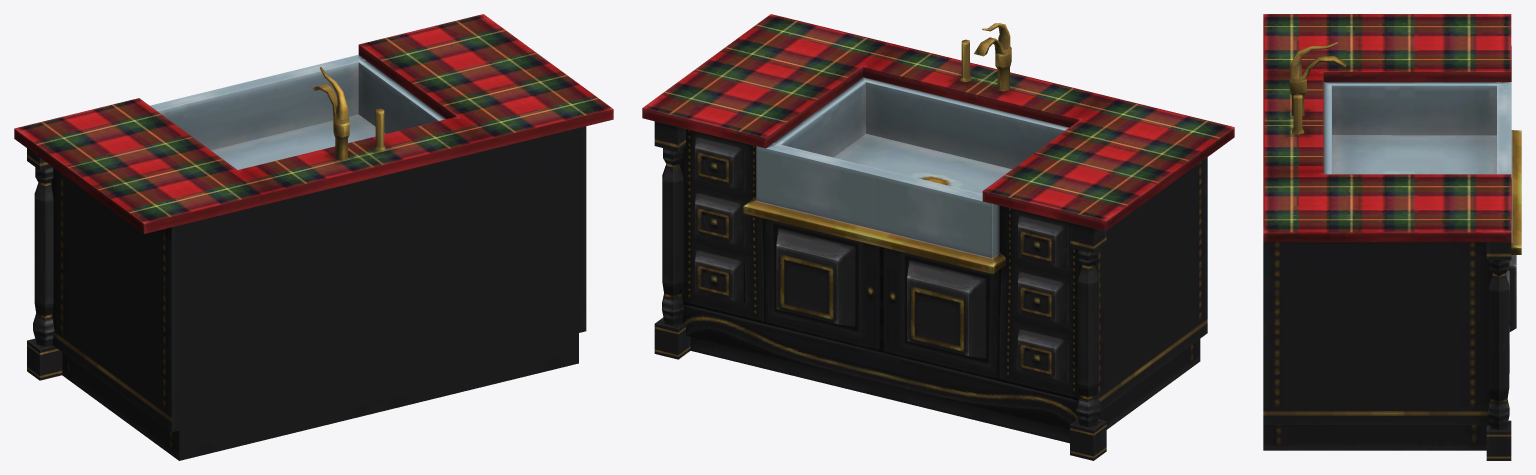
File: furni_0200326.FBX
The picture shows the model from 3 angles, left to right: view 1: azimuth 30°, elevation 25°; view 2: azimuth 150°, elevation 25°; view 3: azimuth 270°, elevation 25°; orthographic projection. The views are drawn at different scales.
Parts seen in each view (by area): view 1: furni_0200326; view 2: furni_0200326; view 3: furni_0200326.
Boxes of the visible parts, x1,y1,x2,y2 form: furni_0200326: (14,14,613,460); furni_0200326: (642,14,1234,460); furni_0200326: (1263,14,1521,460).
Bounding box in the file's own units: 160 × 105 × 80.01.
Materials: 1 (1 with a texture image).
